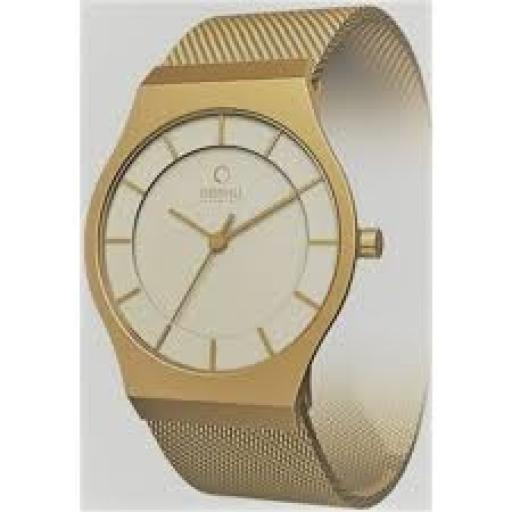KolSaati: (78, 3, 432, 504)
